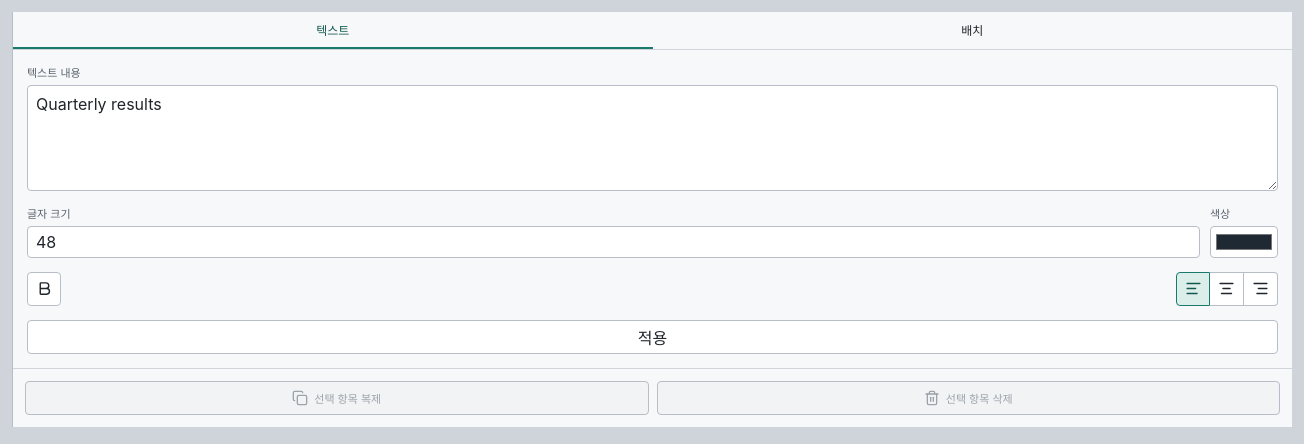
it: Inspector › rejects invalid font size draft -1
Replace the text in the number field labelled "글자 크기" with "-1". click: (614, 242)
box: [27,226,1200,258]
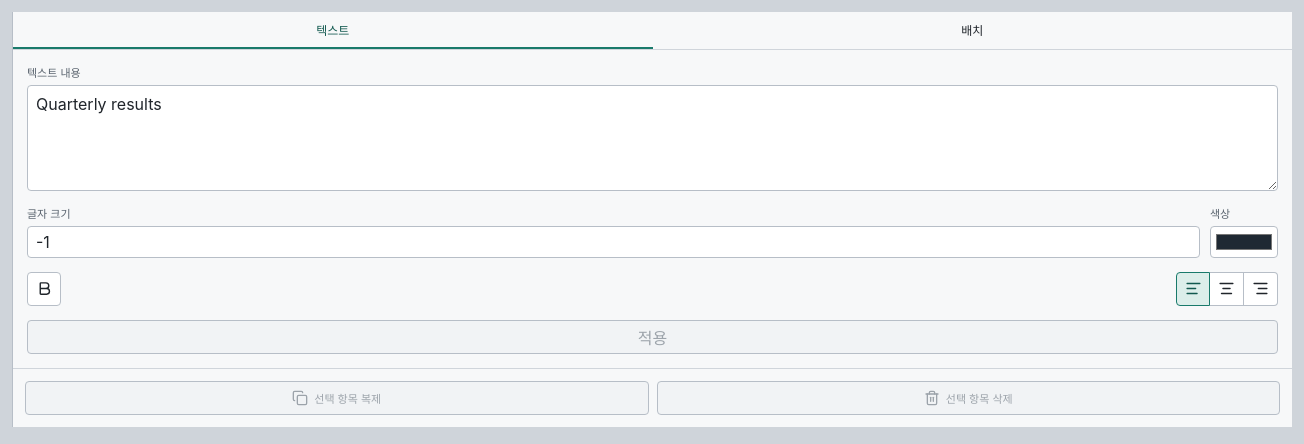
Now the button "적용" is disabled, box [27,320,1278,354]
